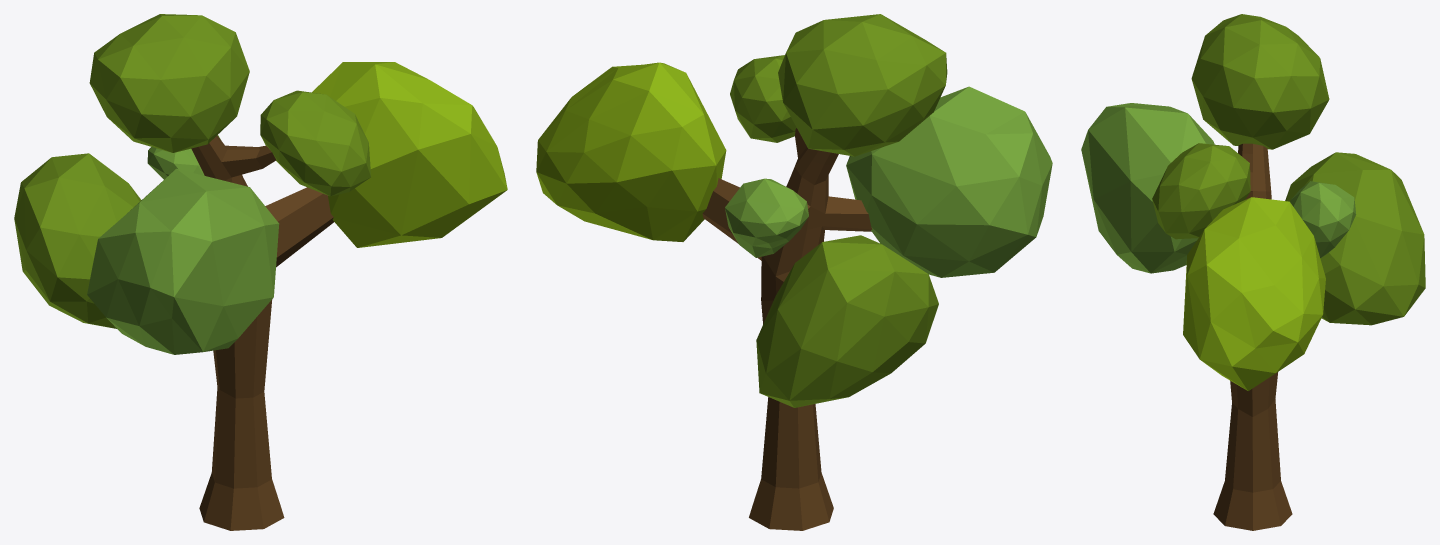
File: Tree2.fbx
3 views of the same model, side by side, from view 1: azimuth 30°, elevation 25°; view 2: azimuth 150°, elevation 25°; view 3: azimuth 270°, elevation 25° (orthographic). The views are drawn at different scales.
Parts seen in each view (by area): view 1: Icosphere; view 2: Icosphere; view 3: Icosphere.
Part boxes in pixels (x1,y1,x2,y2): Icosphere: [14, 14, 507, 530]; Icosphere: [536, 14, 1052, 530]; Icosphere: [1081, 14, 1425, 530].
Bounding box in the file's own units: 320 × 351 × 238.
